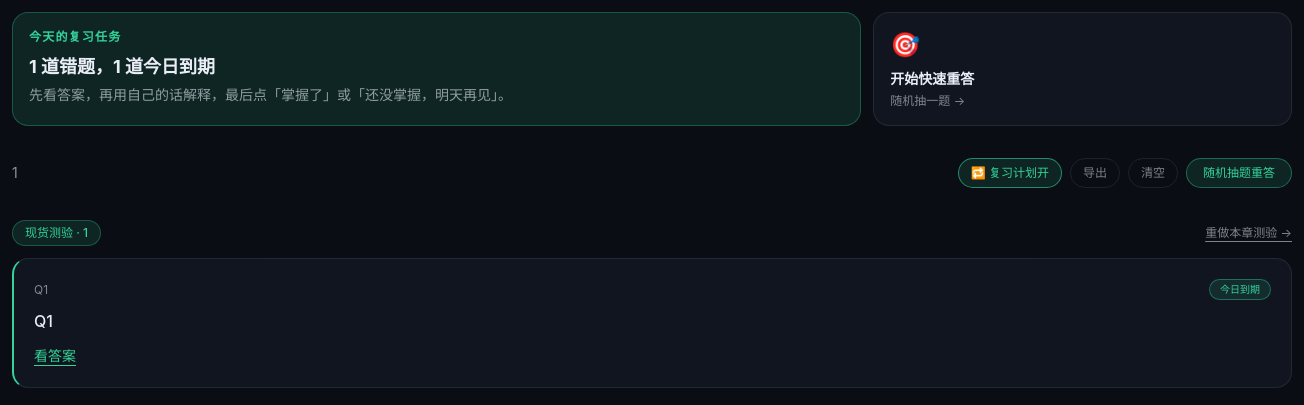
Test: ReviewClient SRS 模式切换（R5.9） › 默认开启；点击后关闭并写入 localStorage
Click the button "🔁 复习计划开" at (1010, 173), box [958,158,1062,188]
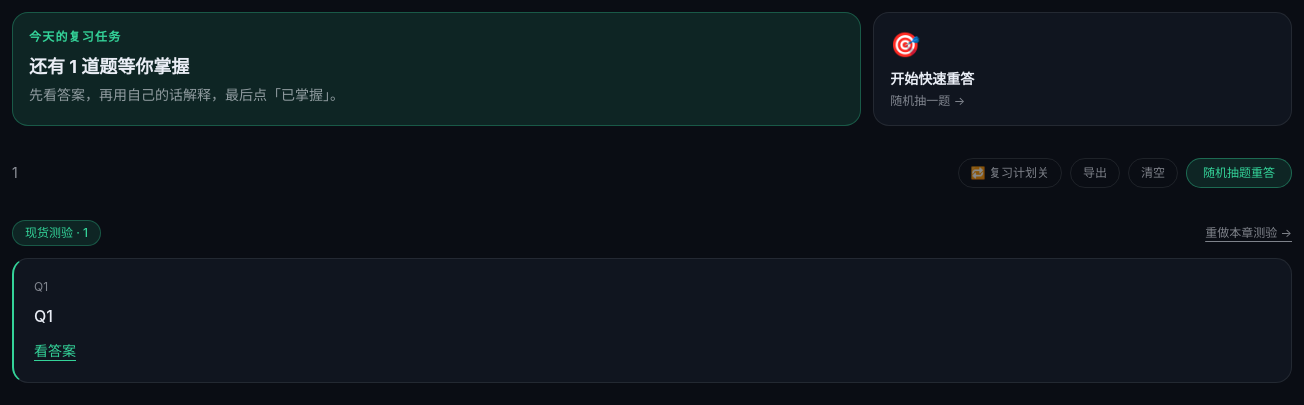
Result: the button "🔁 复习计划关" is shown at [958,158,1062,188]
